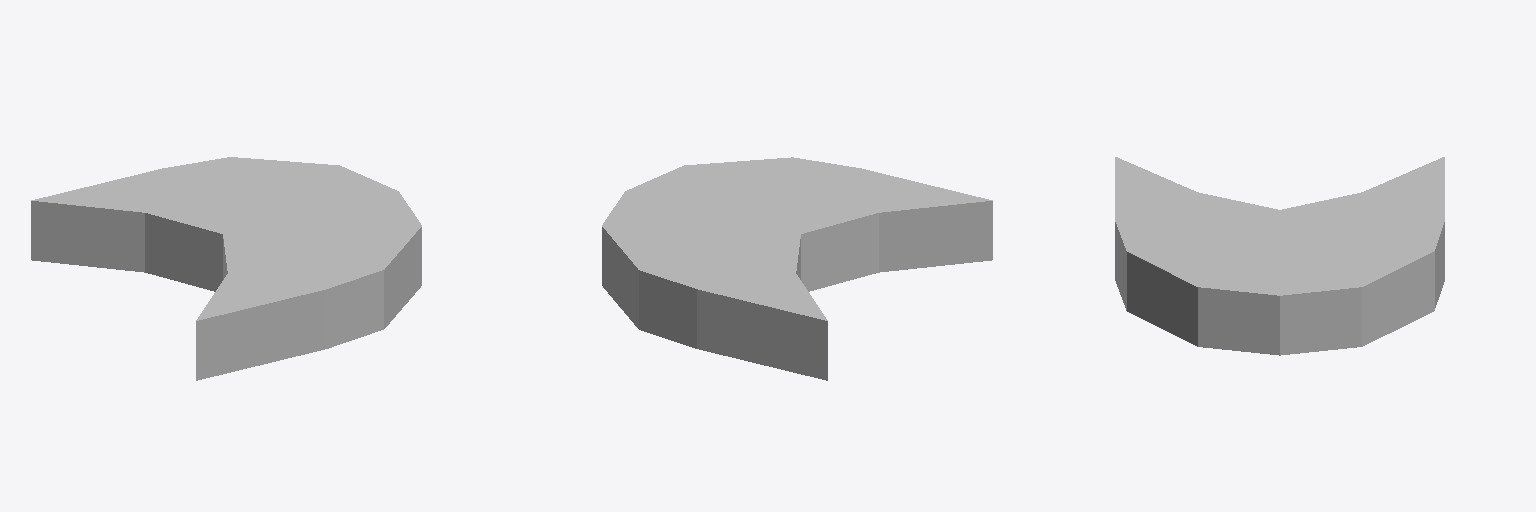
Rendered from OrGate.obj.
3 views of the same model, side by side, from view 1: azimuth 30°, elevation 25°; view 2: azimuth 150°, elevation 25°; view 3: azimuth 270°, elevation 25° (orthographic).
Parts seen in each view (by area): view 1: pasted__pCube11 group33; view 2: pasted__pCube11 group33; view 3: pasted__pCube11 group33.
Part boxes in pixels (left/top/right/bottom): pasted__pCube11 group33: left=31, top=157, right=421, bottom=380; pasted__pCube11 group33: left=602, top=157, right=992, bottom=380; pasted__pCube11 group33: left=1115, top=157, right=1444, bottom=355.
Bounding box in the file's own units: 1 × 0.2 × 1.